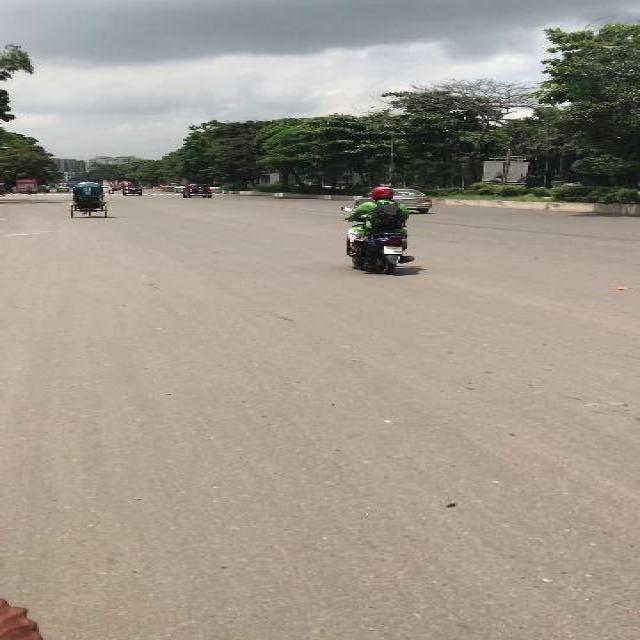car: (394, 189, 431, 215)
motorbike: (337, 205, 413, 277), (106, 185, 114, 193)
rickshaw: (66, 182, 108, 218)
suv: (180, 182, 212, 198), (120, 183, 143, 194)
